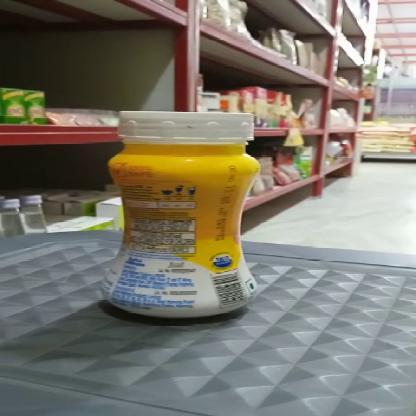SUGAR FREE GOLD POWDER 100GM: (106, 111, 262, 322)
